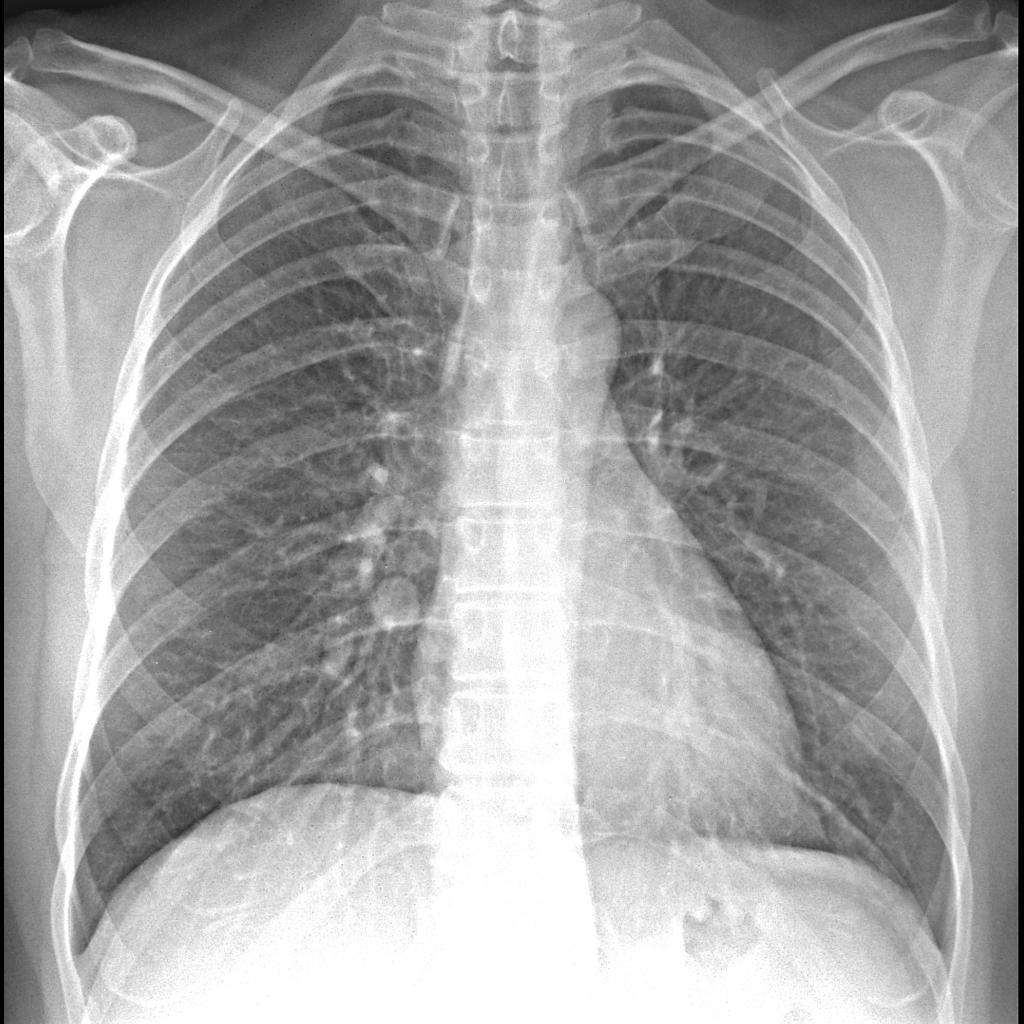Nodule: (363, 564, 426, 653)
